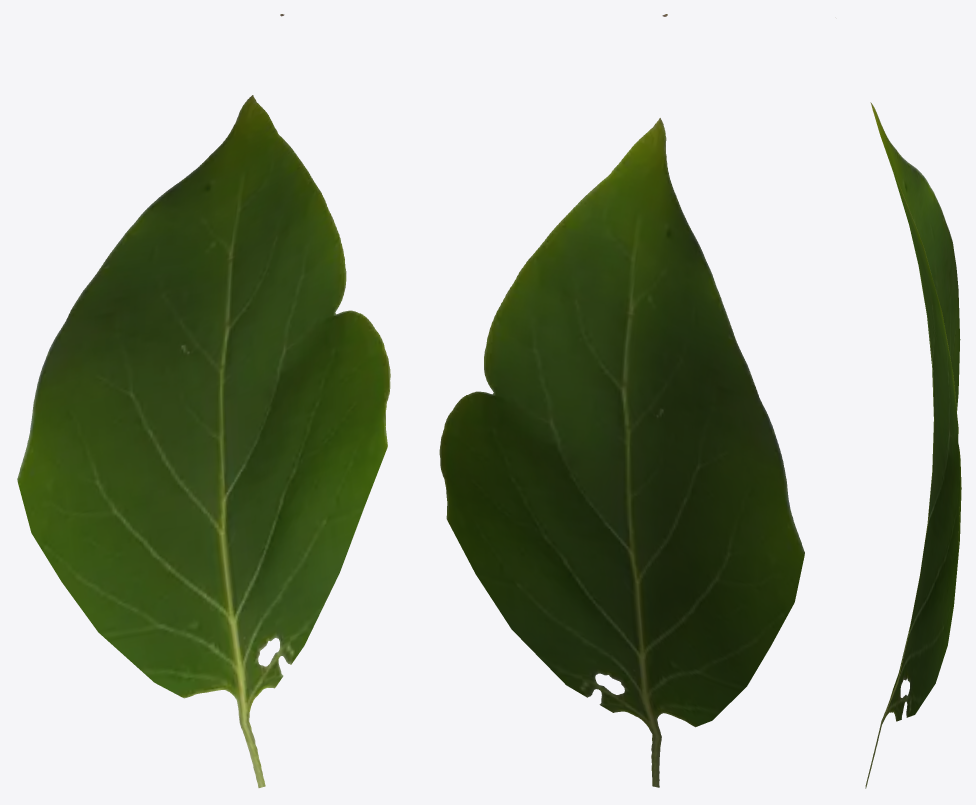
The model's file is leaf.glb.
3 views of the same model, side by side, from view 1: azimuth 30°, elevation 25°; view 2: azimuth 150°, elevation 25°; view 3: azimuth 270°, elevation 25° (orthographic). The views are drawn at different scales.
Parts seen in each view (by area): view 1: Leaf_0; view 2: Leaf_0; view 3: Leaf_0.
Boxes of the visible parts, x1,y1,x2,y2 form: Leaf_0: (17, 14, 390, 787); Leaf_0: (439, 14, 804, 787); Leaf_0: (865, 102, 961, 788).
Bounding box in the file's own units: 0.5845 × 1.13 × 0.167.
Materials: 1 (1 with a texture image).
